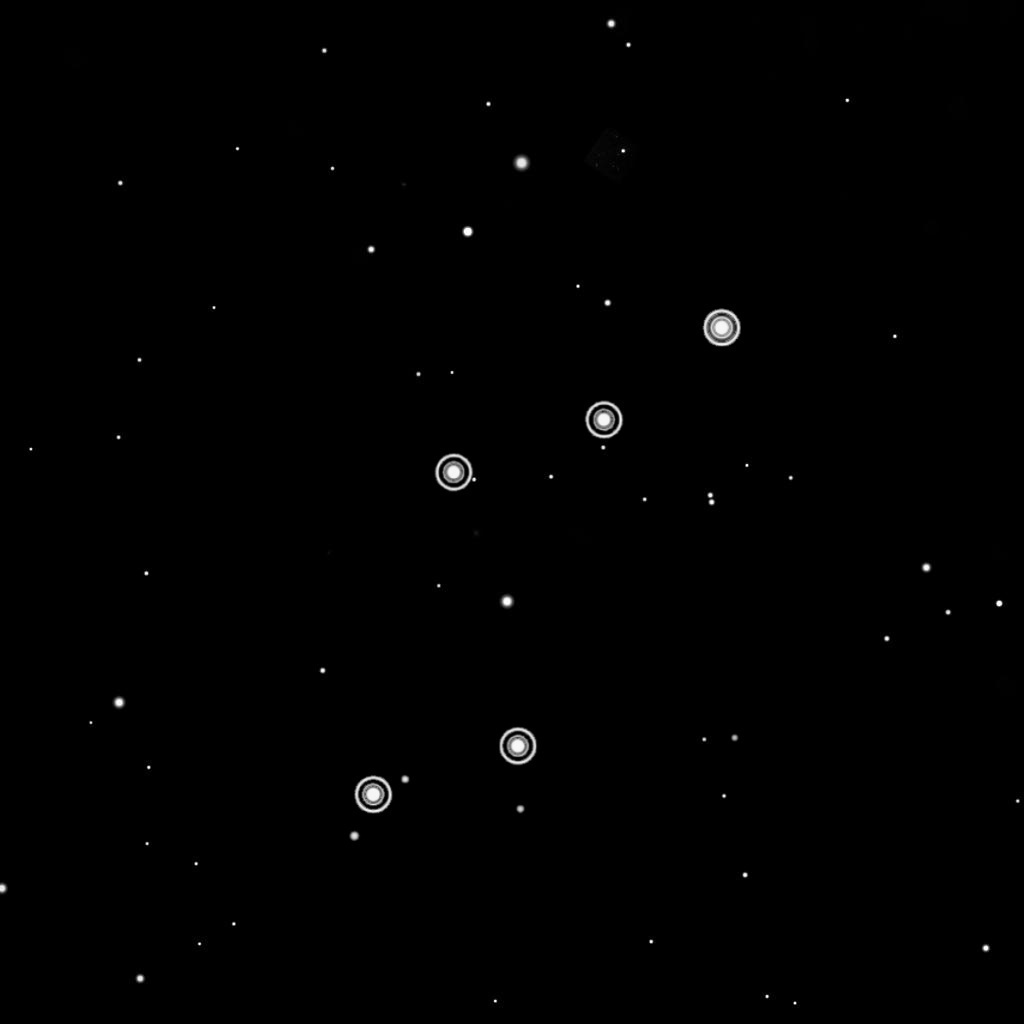lyra: (340, 292, 752, 831)
